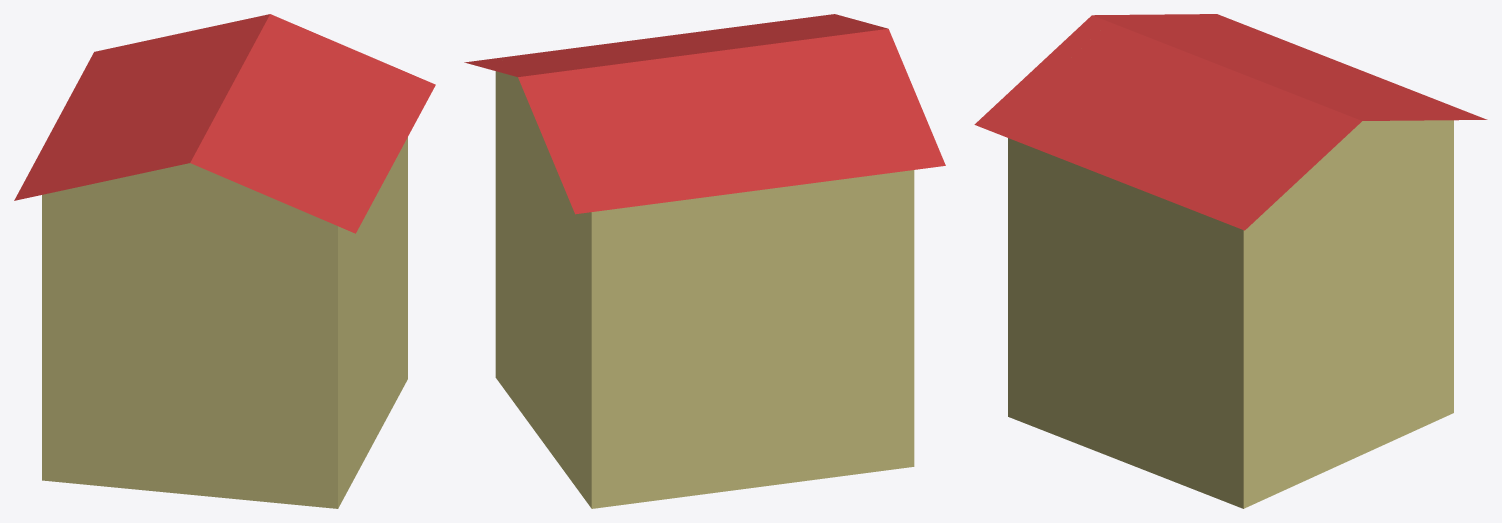
3 renders of one model, left to right at view 1: azimuth 30°, elevation 25°; view 2: azimuth 150°, elevation 25°; view 3: azimuth 270°, elevation 25°, orthographic. The views are drawn at different scales.
Parts seen in each view (by area): view 1: group_5, group_3, group_4; view 2: group_5, group_3, group_4; view 3: group_5, group_3, group_4.
Part boxes in pixels (x1,y1,x2,y2): group_5: (42, 137, 407, 508); group_3: (14, 14, 407, 233); group_4: (190, 14, 435, 232); group_5: (495, 71, 914, 508); group_3: (496, 14, 945, 214); group_4: (464, 14, 887, 76); group_5: (1008, 120, 1453, 508); group_3: (974, 14, 1487, 229); group_4: (975, 15, 1361, 230).
Bounding box in the file's own units: 16.07 × 16.09 × 12.05.
